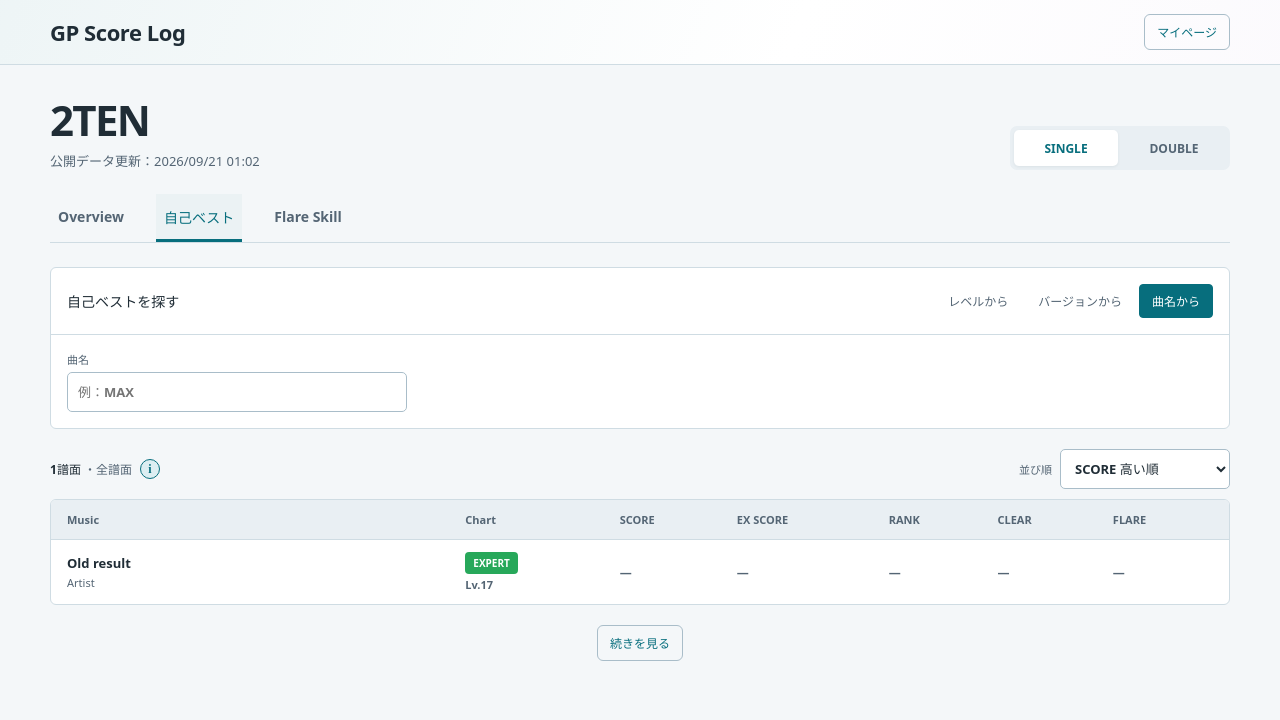
Test case: PlayerApp › ignores an old load-more retry after style changes
Check: the text "Old result" is shown, box [67,554,131,572]
Step 1. Click the button "続きを見る" → coordinates (640, 643), box [597,625,683,661]
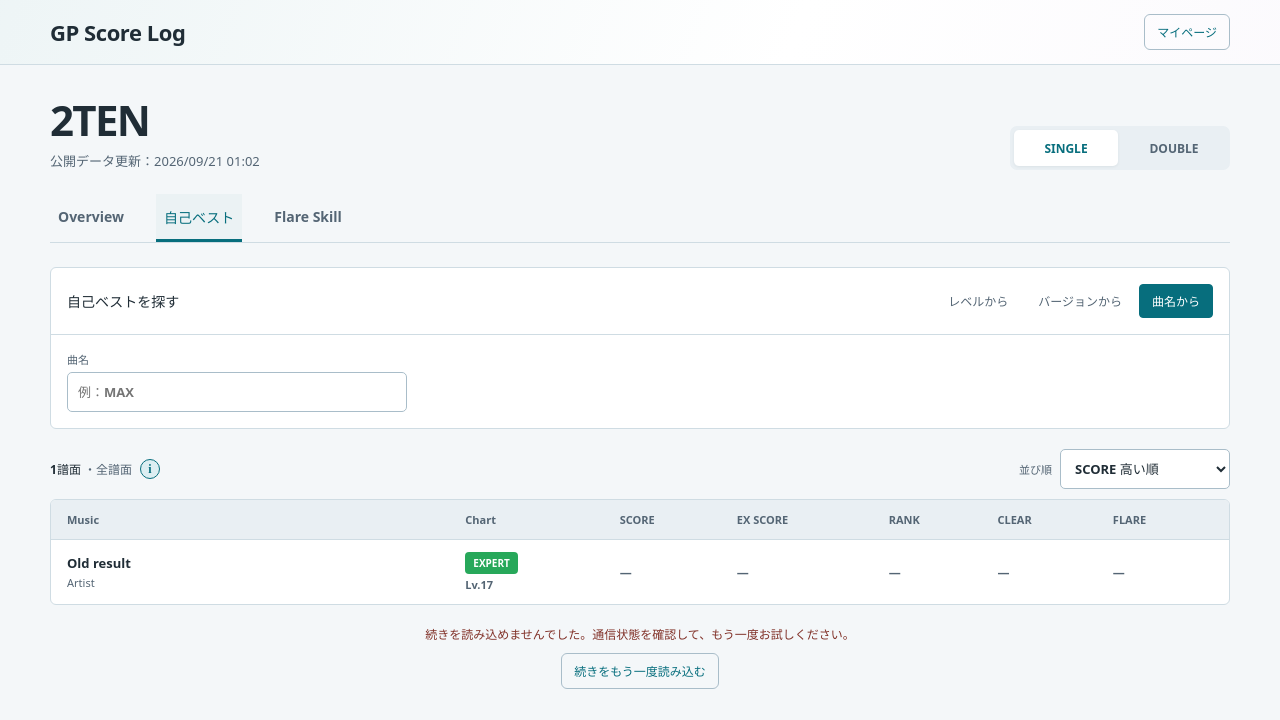
Check: the text "Old result" is shown, box [67,554,131,572]
Check: the message shows "続きを読み込めませんでした", box [425,626,855,643]
Step 2. Click the button "続きをもう一度読み込む" → coordinates (640, 671), box [561,653,719,689]
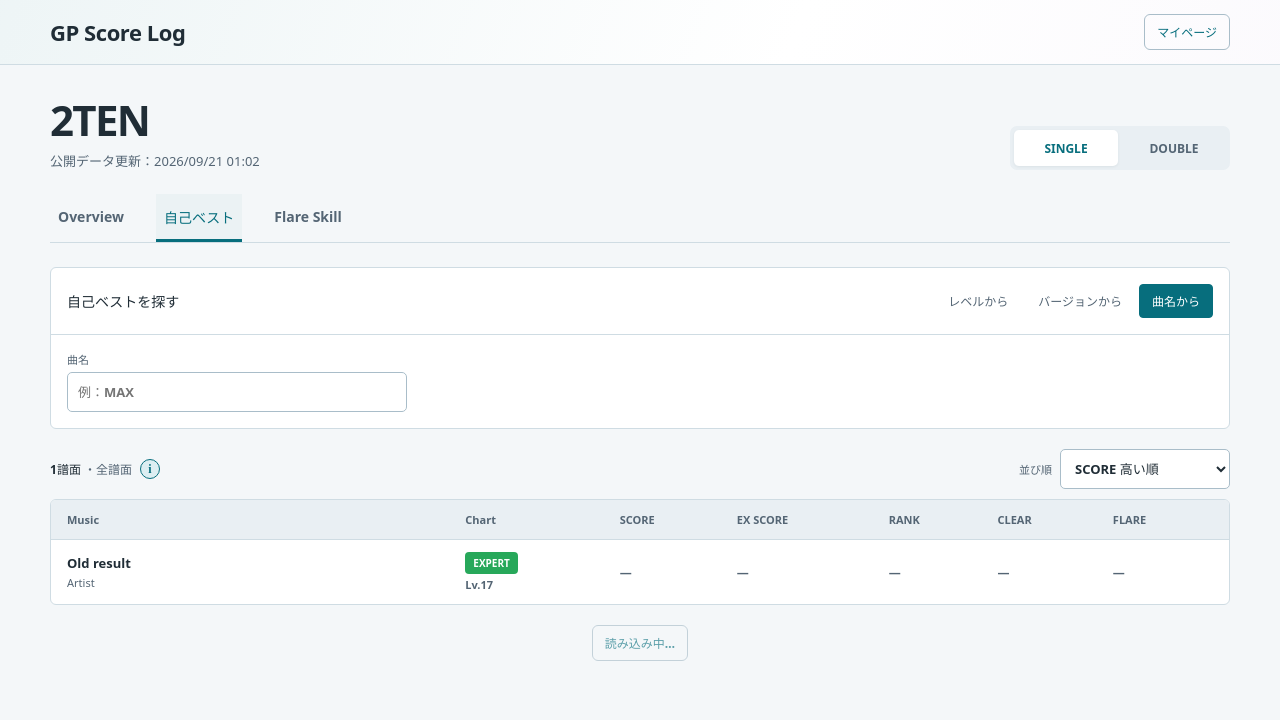
Step 3. Click the button "DOUBLE" → coordinates (1174, 148), box [1122,130,1226,166]
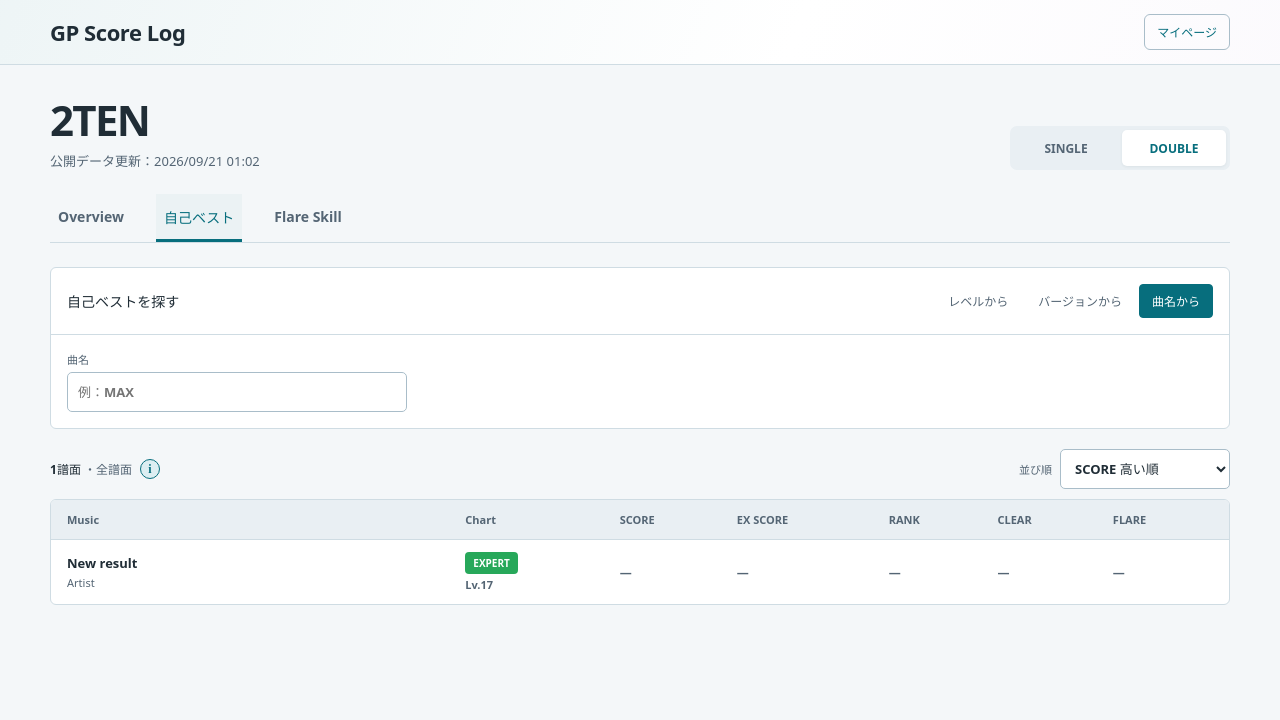
Check: the message "続きを読み込めませんでした。通信状態を確認して、もう一度お試しください。" is not shown
Check: the text "New result" is shown, box [67,554,137,572]
